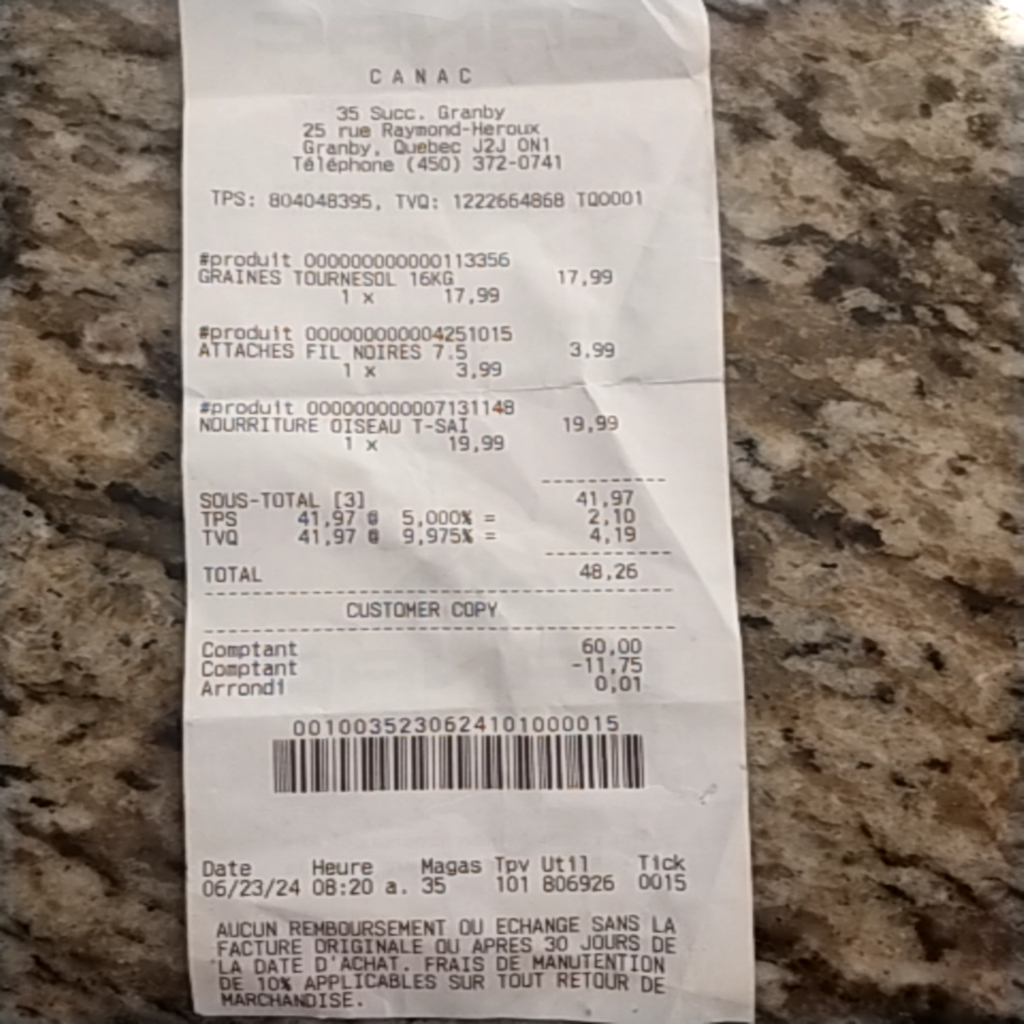recipt: (178, 0, 757, 1018)
